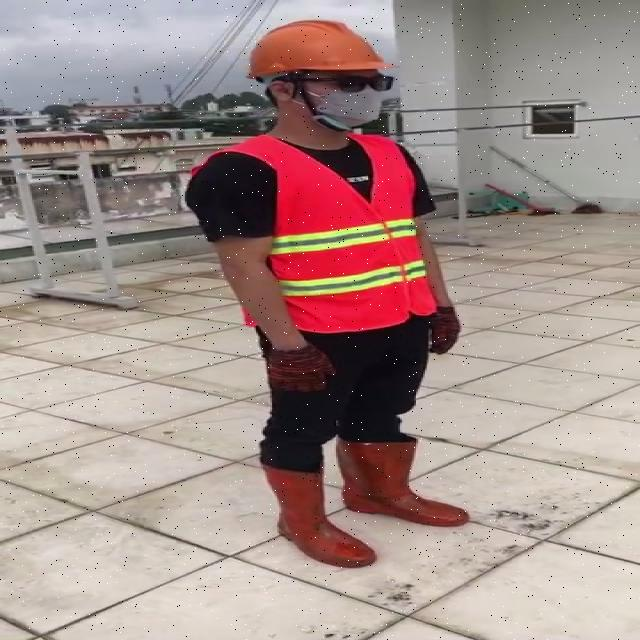Hard_hat: (241, 13, 403, 90)
Vest: (261, 130, 425, 334)
